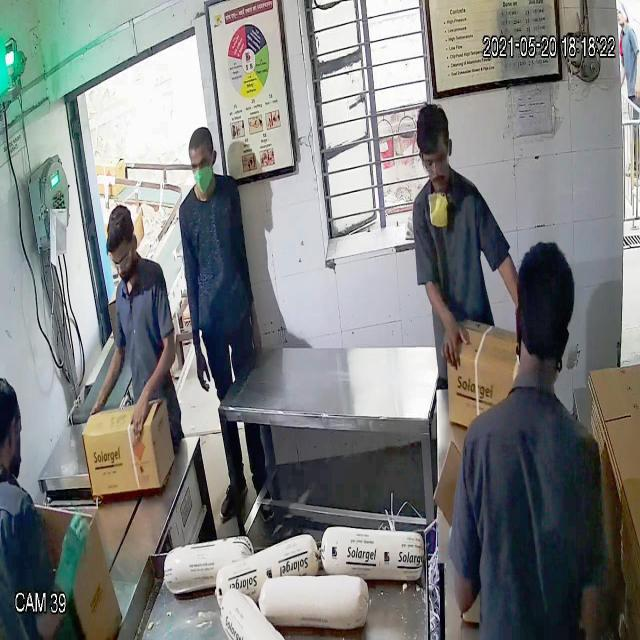glasses: (415, 148, 455, 174), (108, 242, 137, 276)
no-glass: (187, 152, 217, 177)
